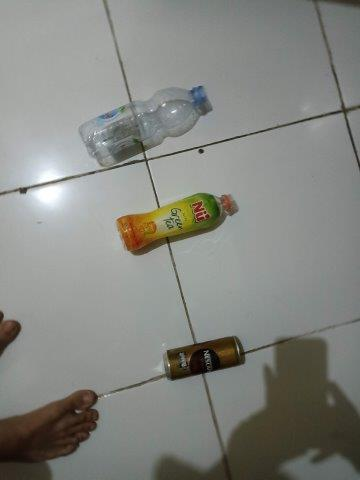botolplastik: (78, 85, 207, 157), (115, 193, 233, 252)
kaleng: (163, 336, 246, 381)
